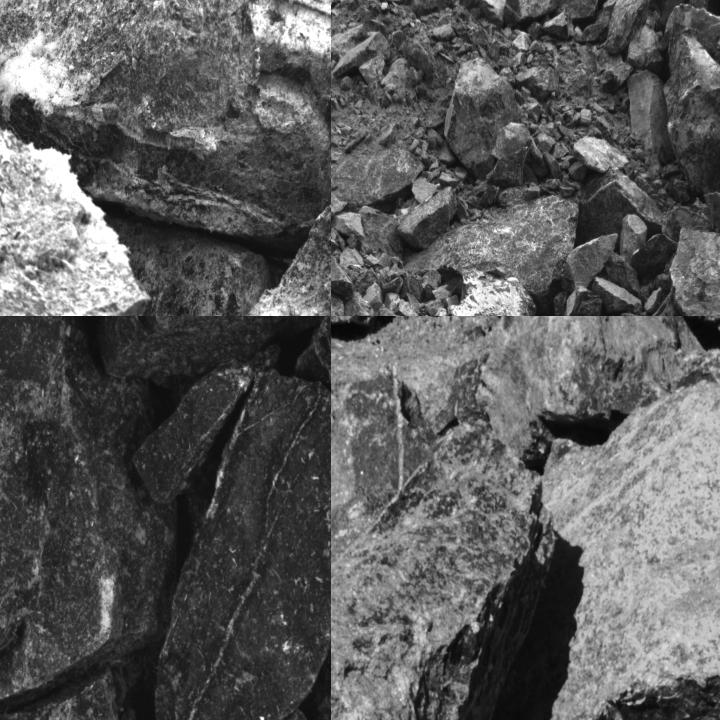stone: (0, 0, 330, 225), (0, 316, 179, 719), (331, 440, 562, 719), (531, 383, 719, 719), (154, 372, 330, 719), (470, 316, 714, 457), (0, 62, 123, 315), (0, 316, 69, 674), (135, 342, 280, 499), (200, 165, 330, 315), (64, 316, 328, 383), (444, 58, 523, 180), (665, 35, 719, 201), (331, 143, 426, 222), (575, 167, 664, 246), (624, 69, 676, 163), (449, 265, 536, 315), (671, 226, 719, 315), (397, 187, 458, 250), (503, 0, 600, 30), (564, 234, 615, 289), (606, 0, 650, 53), (592, 277, 643, 315), (486, 146, 528, 187), (450, 0, 507, 28), (331, 253, 354, 302), (644, 0, 693, 22)
